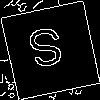S: (25, 25, 68, 78)
